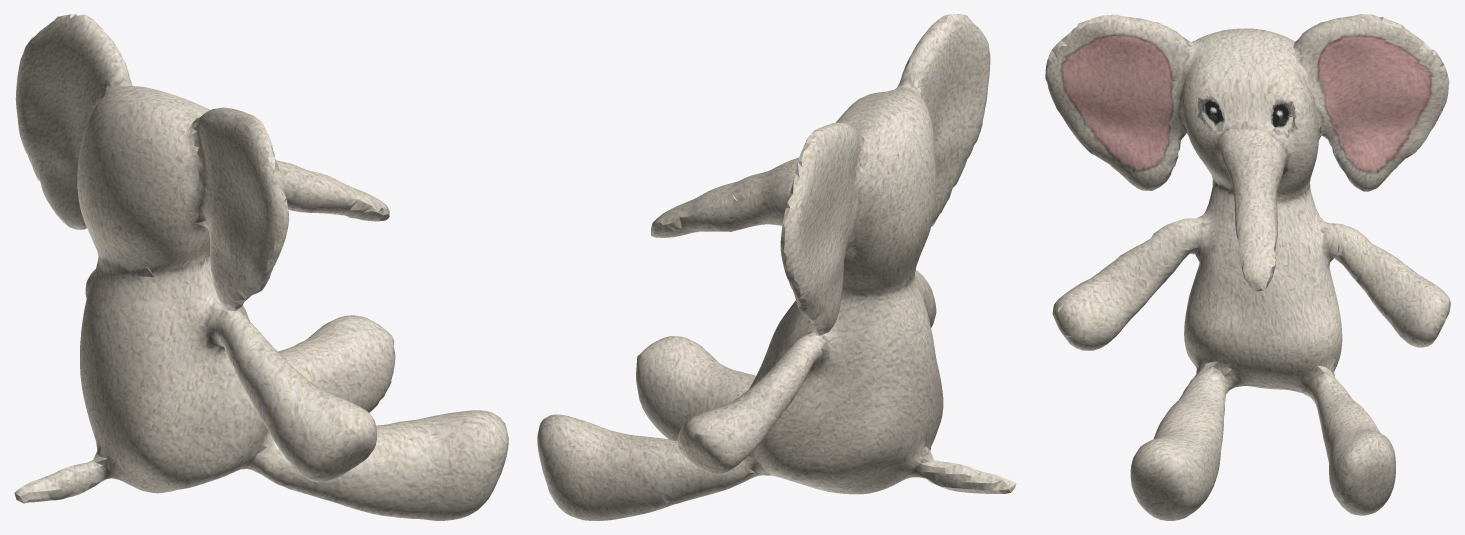
File: elephant_aug_2.obj
3 views of the same model, side by side, from view 1: azimuth 30°, elevation 25°; view 2: azimuth 150°, elevation 25°; view 3: azimuth 270°, elevation 25° (orthographic). The views are drawn at different scales.
Size of the model in its own units: 99.94 by 105 by 94.61.
Materials: 1 (1 with a texture image).
